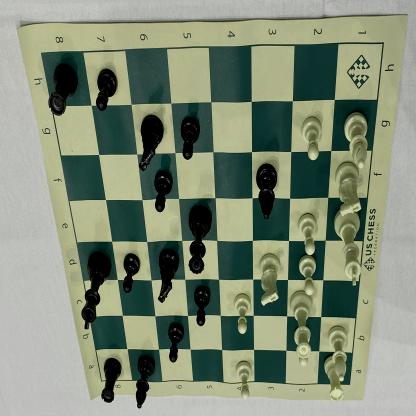black-bishop: (255, 161, 280, 223), (133, 353, 155, 412)
black-king: (80, 250, 113, 332)
black-knight: (136, 111, 164, 175), (157, 247, 180, 307)
black-pawn: (93, 64, 120, 116), (179, 116, 202, 164), (121, 249, 143, 297), (152, 169, 174, 214), (192, 281, 212, 330), (167, 321, 186, 365)
black-queen: (186, 203, 213, 280)
black-rook: (47, 61, 80, 119), (99, 354, 123, 407)
white-bishop: (342, 112, 370, 171), (326, 324, 350, 383)
white-king: (333, 208, 363, 290)
white-knight: (334, 160, 364, 218), (258, 250, 283, 307)
white-pawn: (300, 114, 323, 162), (297, 210, 320, 256), (292, 326, 313, 368), (234, 359, 255, 401), (298, 253, 318, 297), (233, 290, 252, 334)
white-queen: (287, 290, 318, 358)
white-rook: (322, 354, 346, 407)
